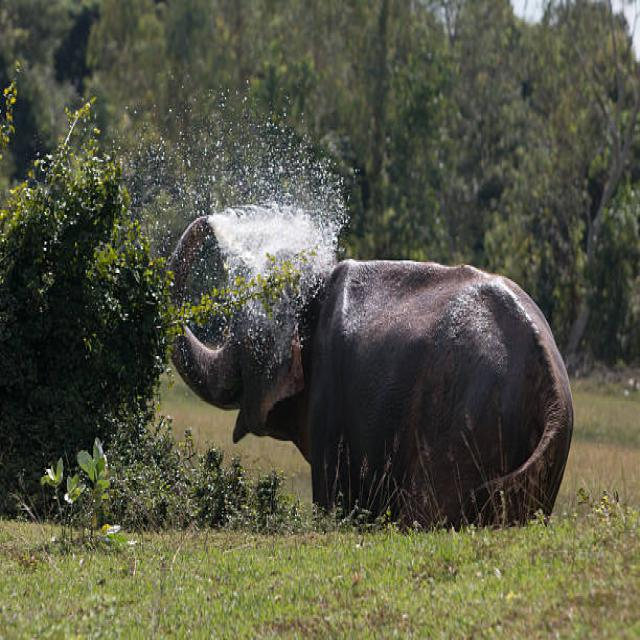Elephant: (160, 191, 578, 526)
